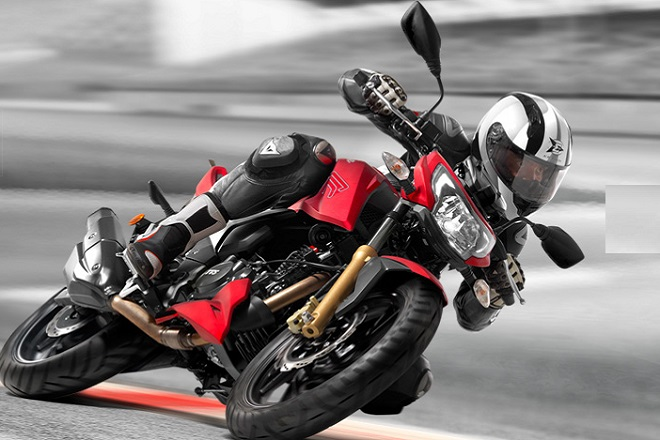helmet: (492, 93, 573, 218)
